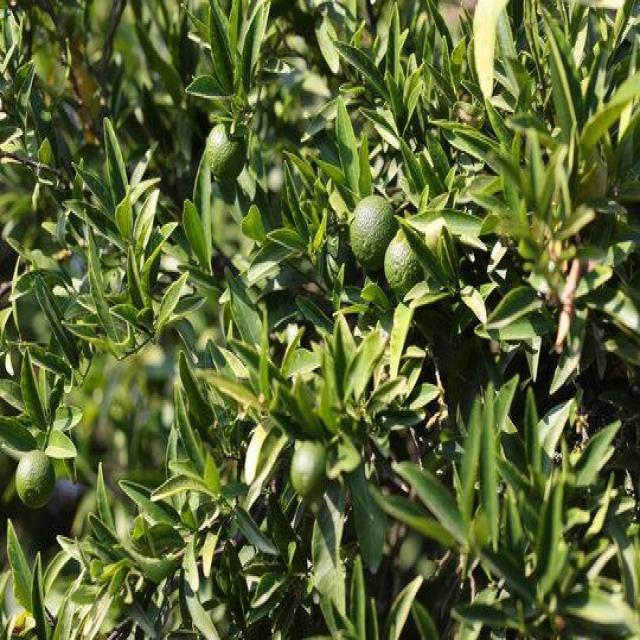Jeruk Belum Matang: (348, 196, 398, 268), (384, 229, 427, 299), (289, 439, 331, 505), (15, 450, 56, 508), (207, 125, 246, 182)
